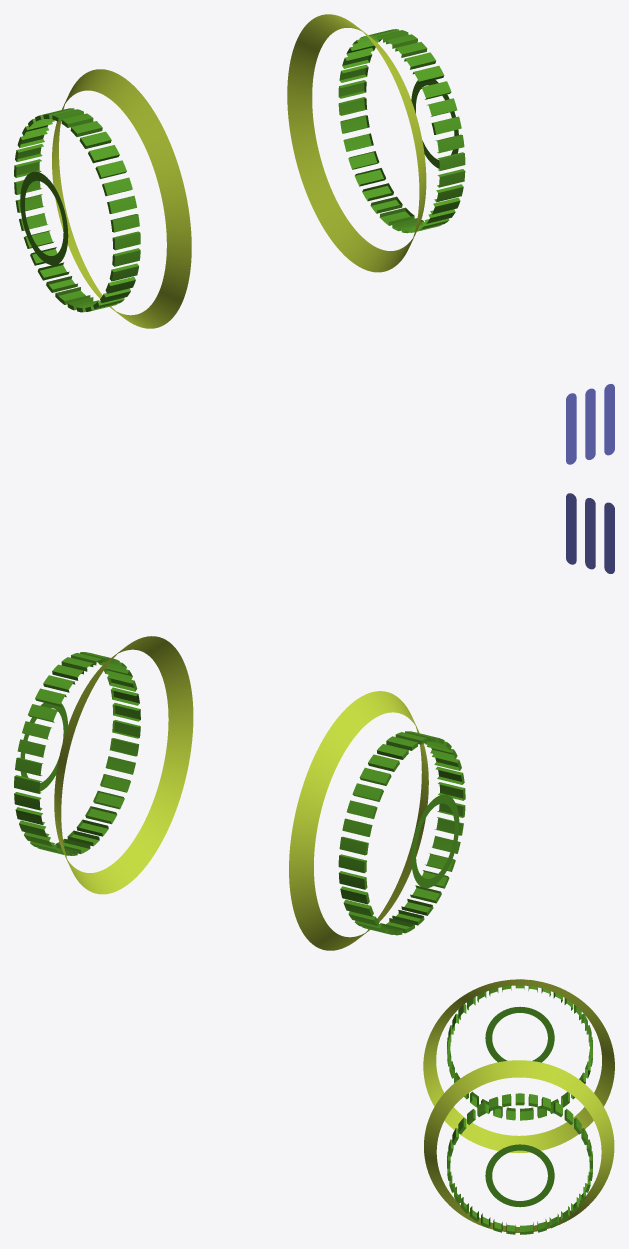
File: emissive.fbx
3 renders of one model, top to bottom at view 1: azimuth 30°, elevation 25°; view 2: azimuth 150°, elevation 25°; view 3: azimuth 270°, elevation 25°, orthographic. The views are drawn at different scales.
Visible parts, largest first — view 1: emissive; view 2: emissive; view 3: emissive.
Boxes of the visible parts, x1,y1,x2,y2 form: emissive: [14, 14, 614, 464]; emissive: [14, 493, 614, 950]; emissive: [423, 979, 614, 1234].
Bounding box in the file's own units: 5.07 × 2.98 × 9.36.
